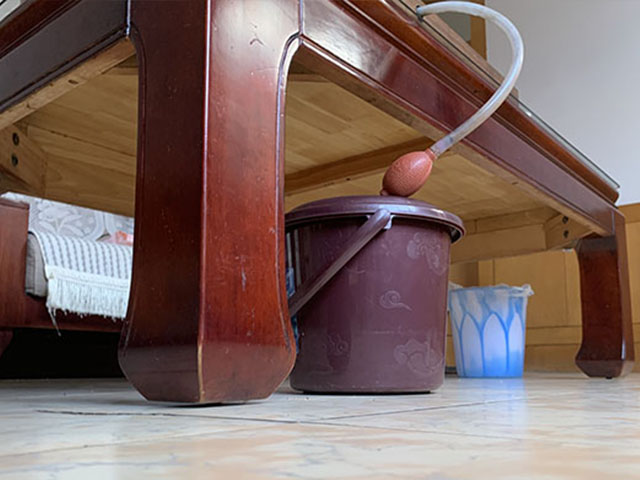table: (1, 1, 631, 408)
trashcan: (448, 283, 534, 381)
